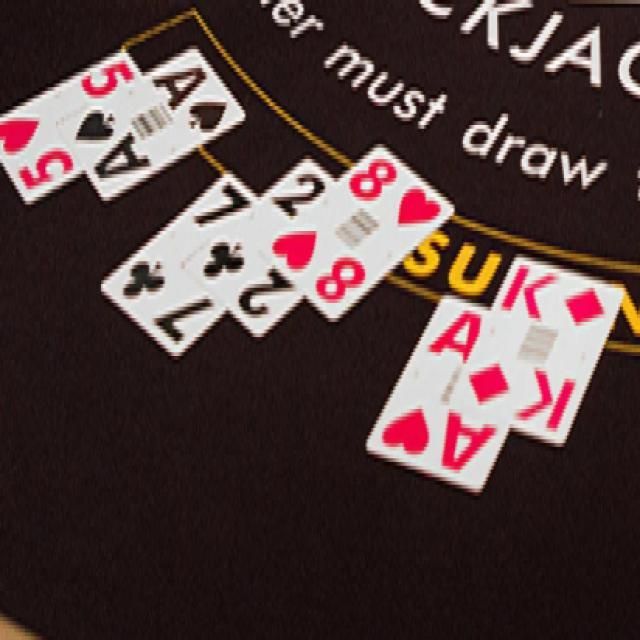Card-2: (183, 156, 335, 338)
Card-5: (0, 48, 142, 204)
Card-7: (101, 172, 257, 358)
Card-8: (263, 142, 455, 323)
Card-A: (58, 45, 246, 200), (366, 295, 508, 492)
Card-K: (451, 252, 623, 448)
